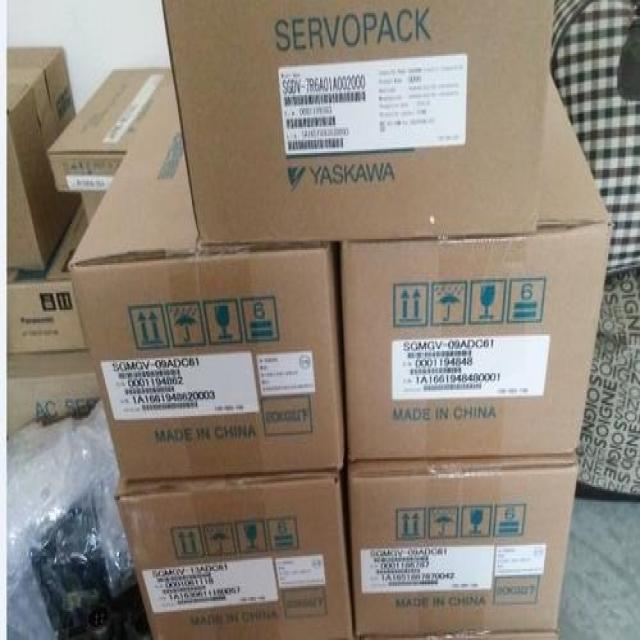box: (67, 71, 344, 481), (340, 73, 612, 463), (160, 0, 556, 244), (347, 453, 579, 636), (114, 472, 353, 638), (6, 45, 82, 269), (49, 67, 170, 194), (6, 203, 90, 355), (6, 349, 100, 437), (353, 633, 557, 640), (82, 194, 105, 222)
